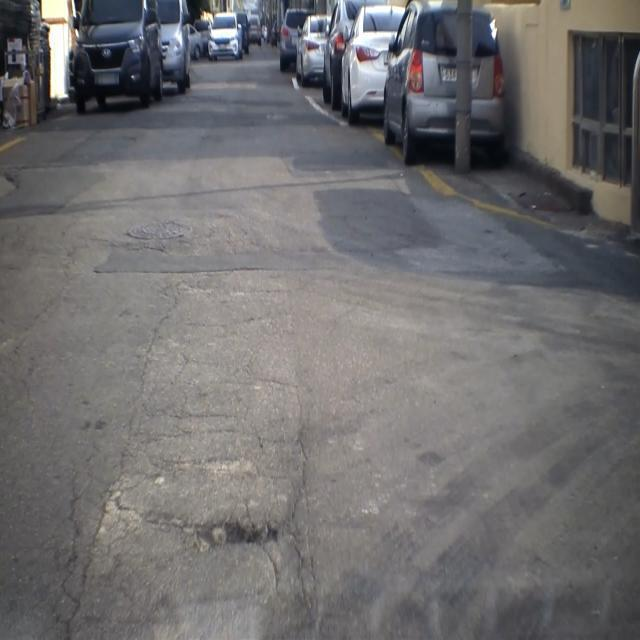pothole: (155, 506, 287, 560)
